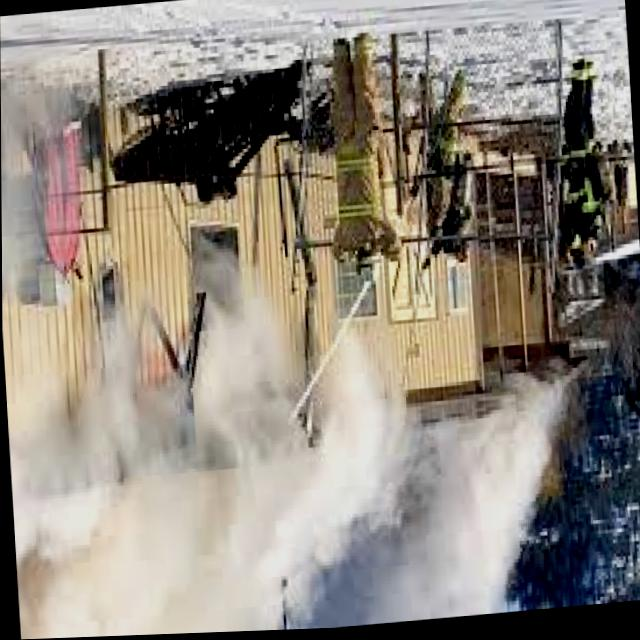Smoke: (2, 273, 569, 640)
